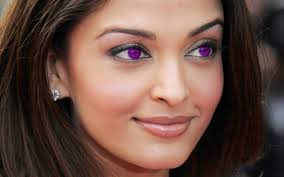e.other: (128, 46, 147, 65)
